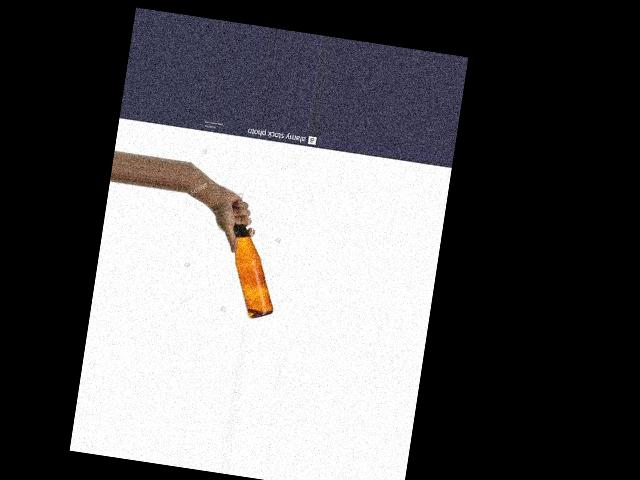beer: (217, 203, 287, 321)
